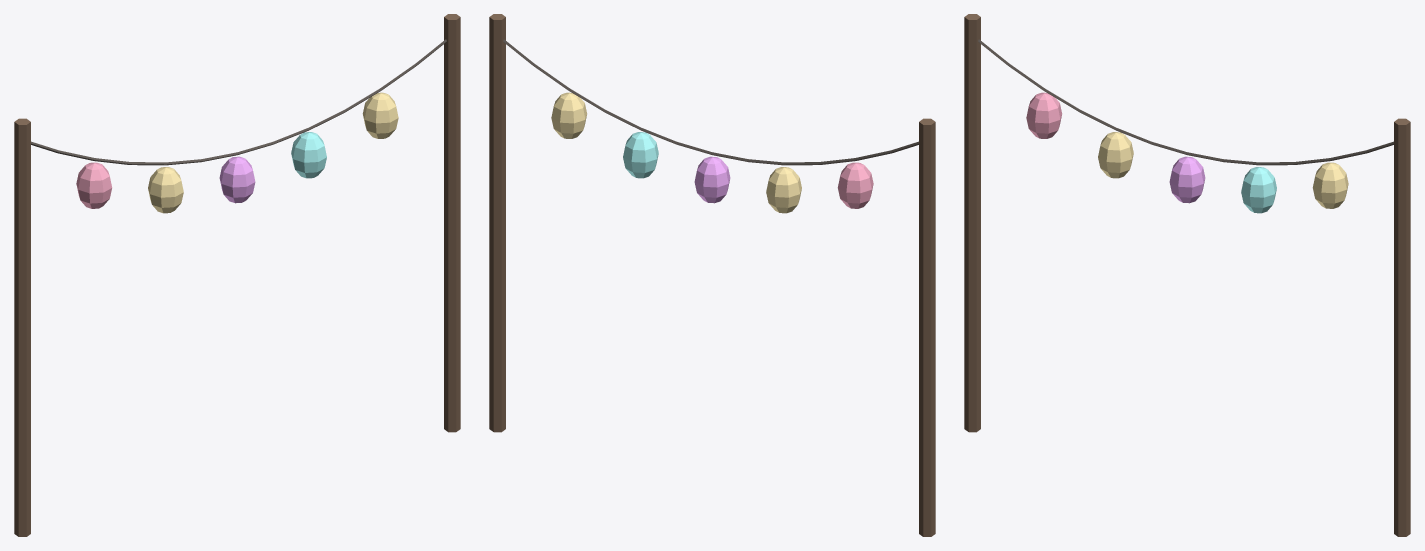
File: LanternString.fbx
3 views of the same model, side by side, from view 1: azimuth 30°, elevation 25°; view 2: azimuth 150°, elevation 25°; view 3: azimuth 330°, elevation 25° (orthographic).
Parts seen in each view (by area): view 1: Prop_LanternString; view 2: Prop_LanternString; view 3: Prop_LanternString.
Boxes of the visible parts, <box> form: Prop_LanternString: <box>14,14,460,536</box>; Prop_LanternString: <box>489,14,935,536</box>; Prop_LanternString: <box>964,14,1410,536</box>.
Size of the model in its own units: 2.47 by 2.2 by 0.18.
